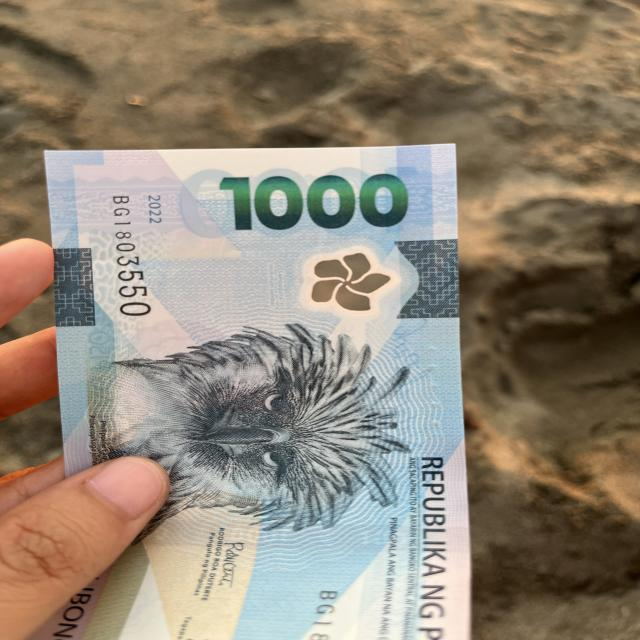eagle: (55, 310, 412, 534)
sampaguita: (286, 236, 410, 322)
value: (212, 170, 416, 243)
